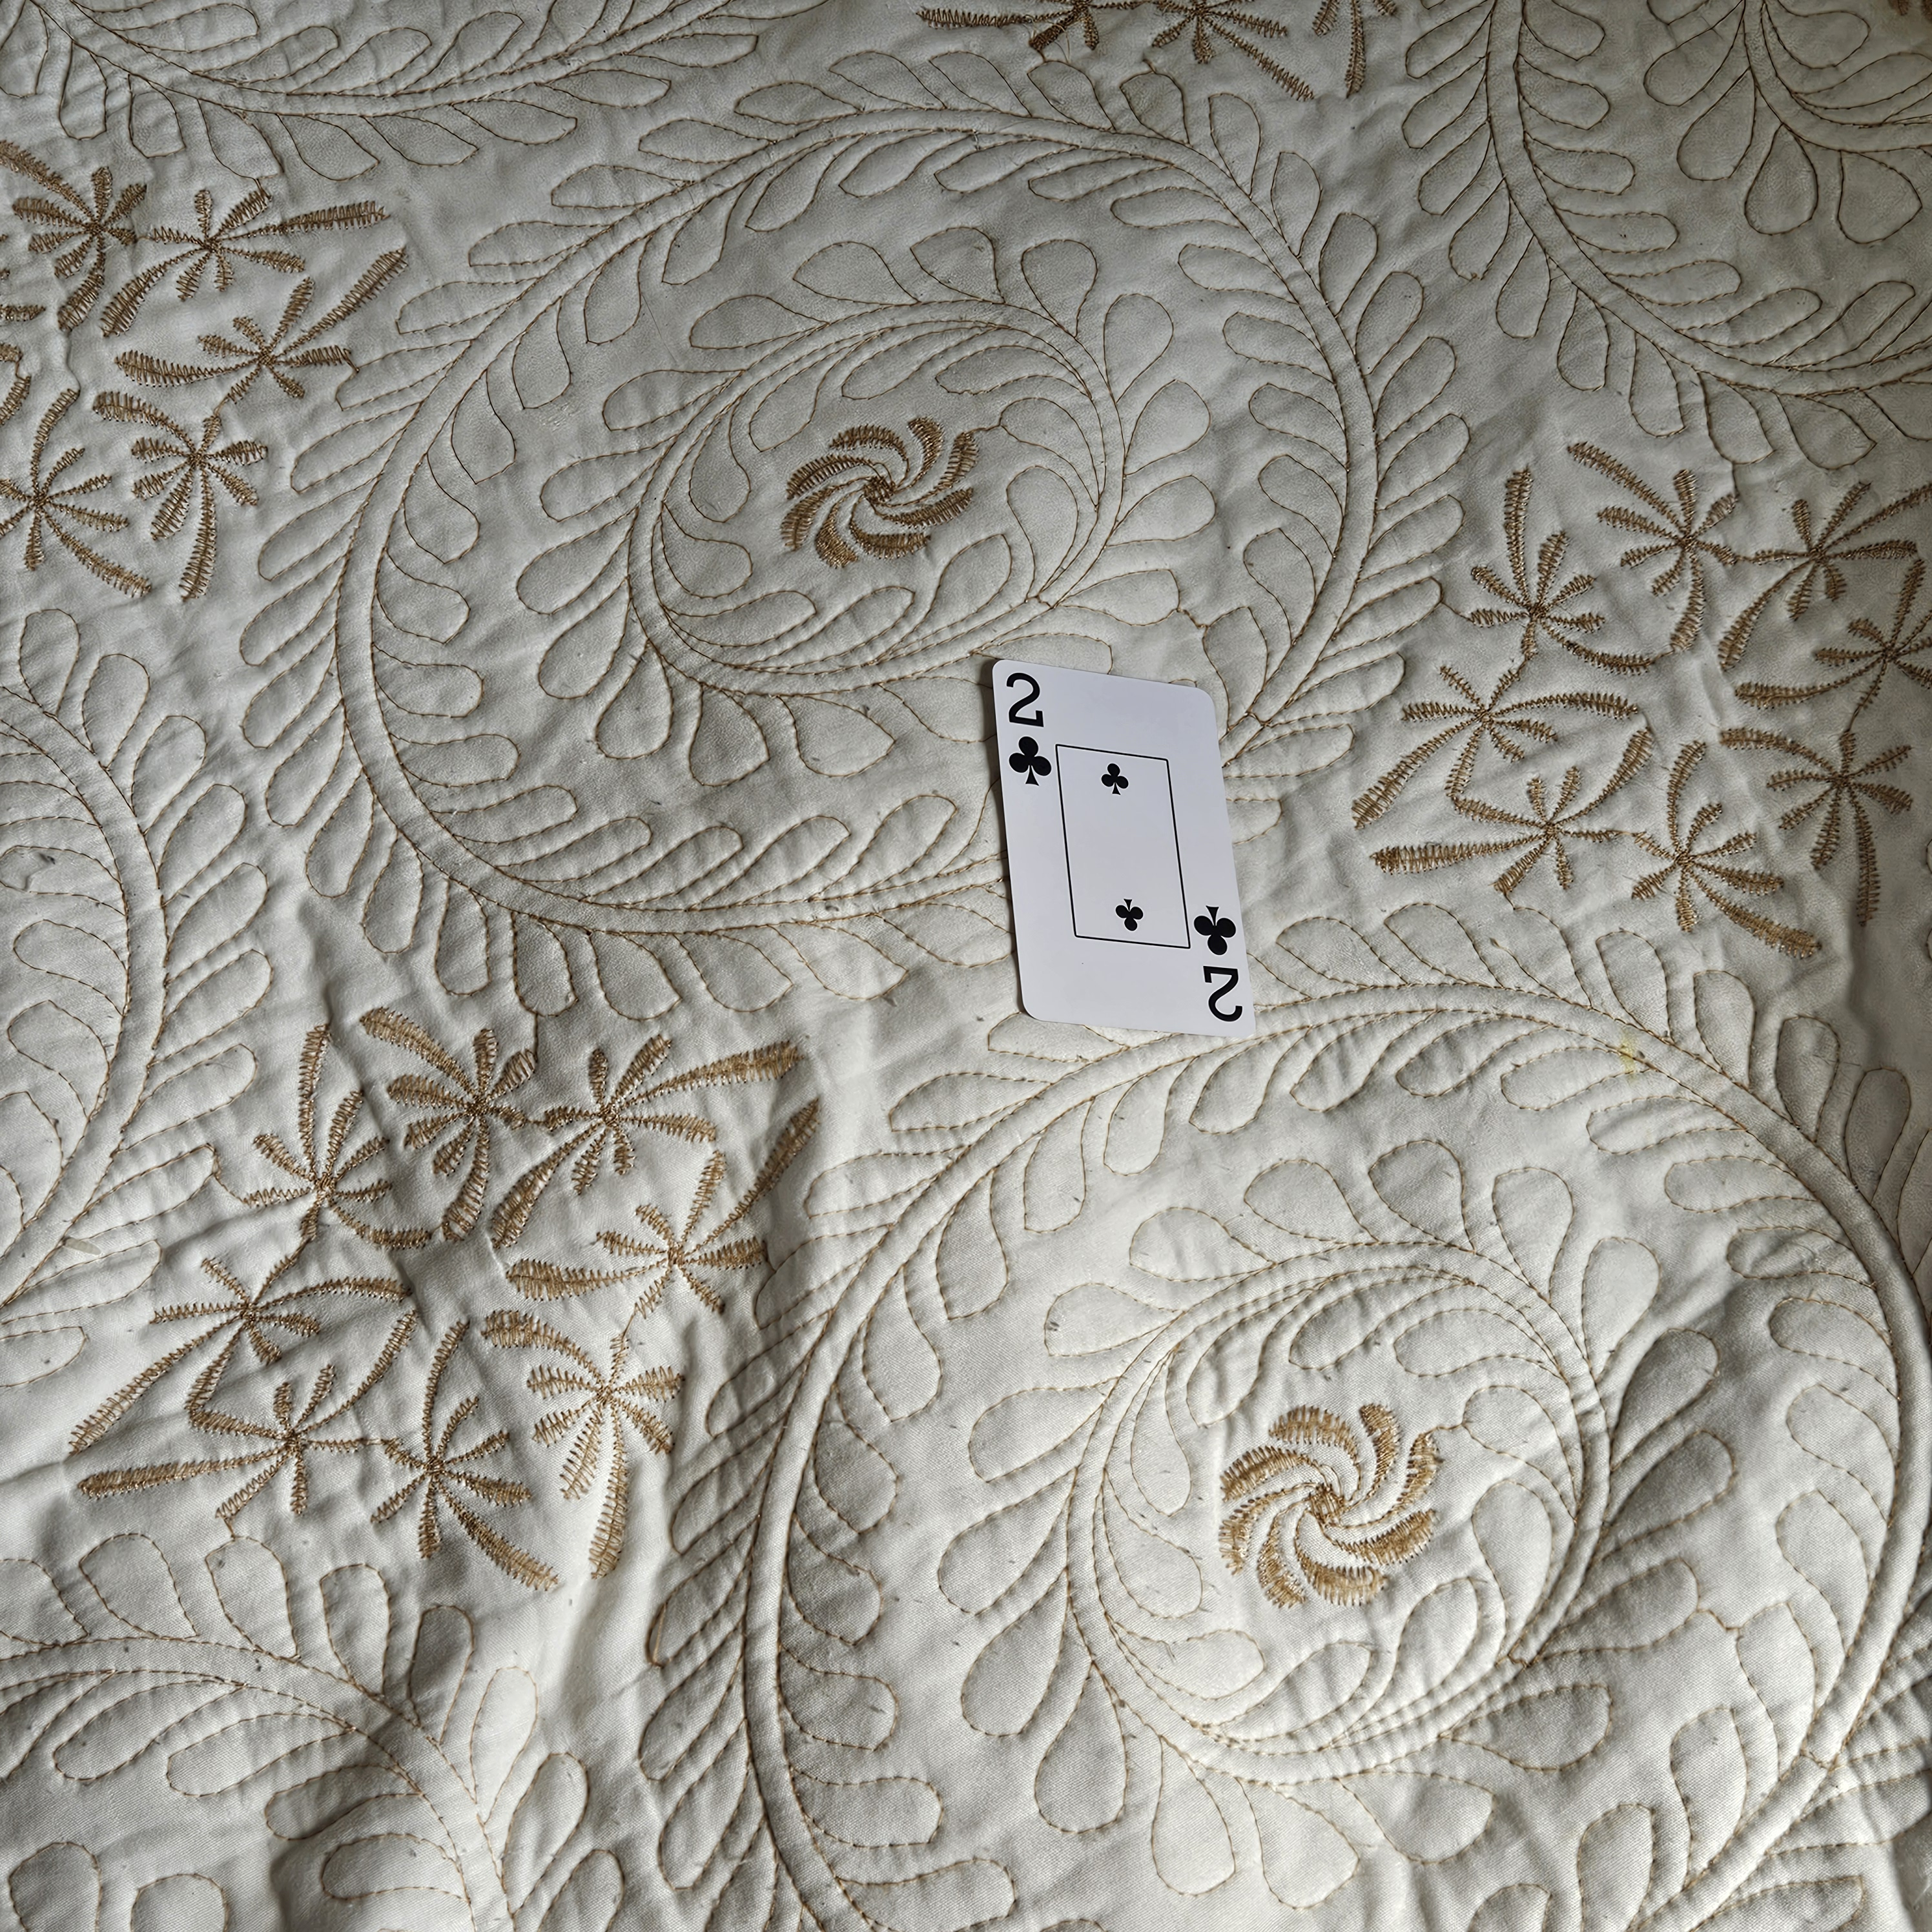2P: (1182, 892, 1260, 1028), (989, 658, 1060, 794)
